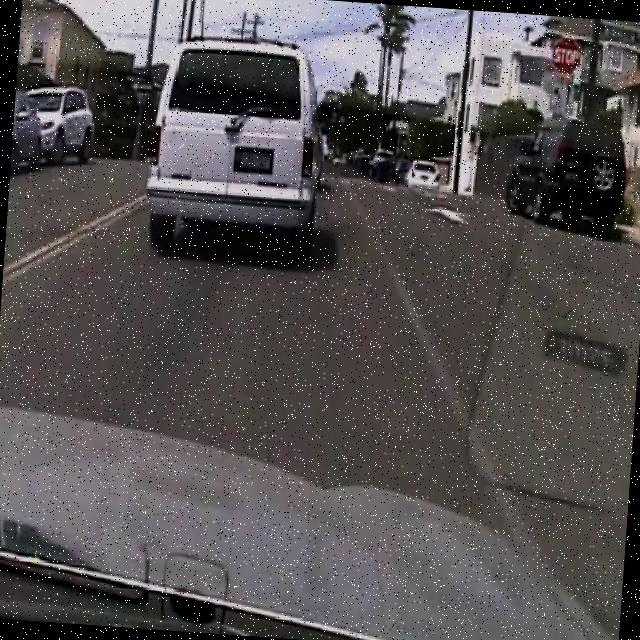Stop: (546, 32, 586, 79)
